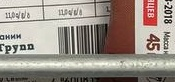1d: (57, 23, 108, 54)
